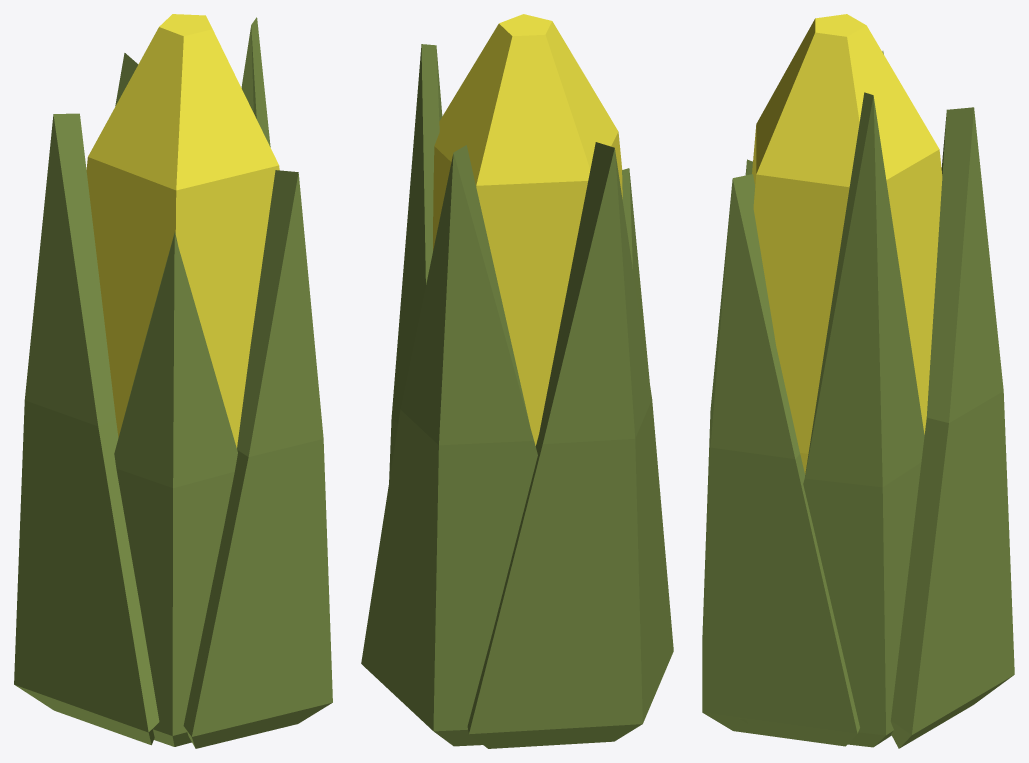
The model's file is Corn_01.fbx.
The picture shows the model from 3 angles, left to right: view 1: azimuth 30°, elevation 25°; view 2: azimuth 150°, elevation 25°; view 3: azimuth 270°, elevation 25°; orthographic projection.
Visible parts, largest first — view 1: Corn_01; view 2: Corn_01; view 3: Corn_01.
Part boxes in pixels (x1,y1,x2,y2): Corn_01: (14,14,332,748); Corn_01: (361,14,673,748); Corn_01: (702,14,1014,748).
Size of the model in its own units: 8.54 by 20.1 by 8.41.
